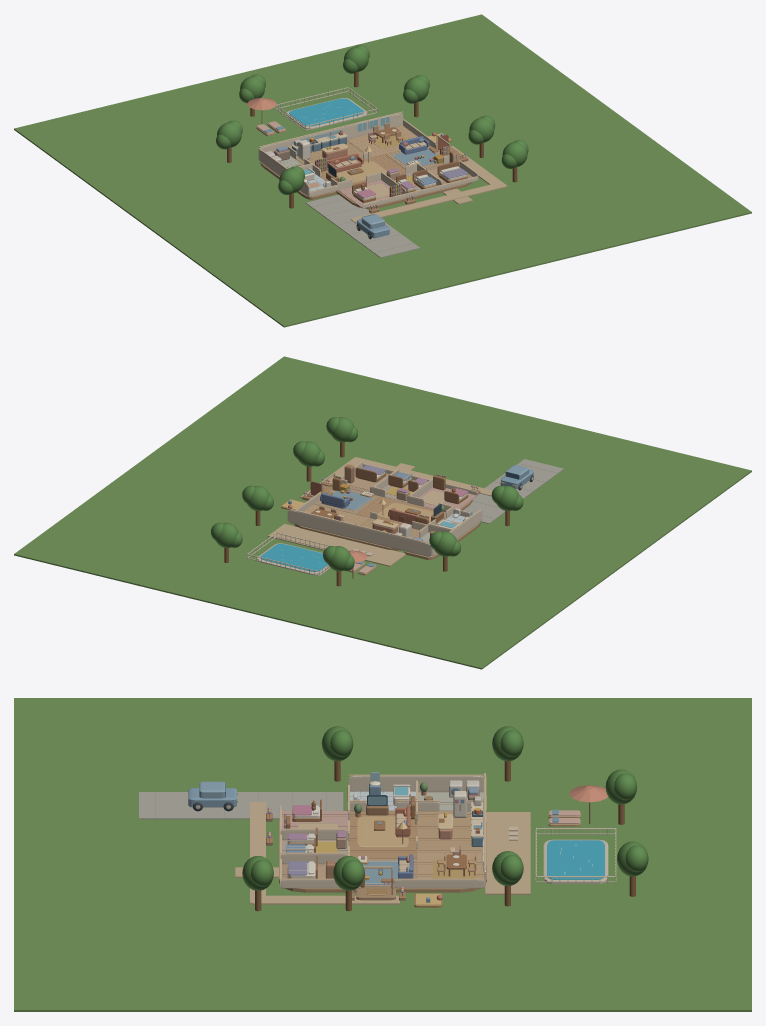
File: house.glb
3 views of the same model, one above another, from view 1: azimuth 30°, elevation 25°; view 2: azimuth 150°, elevation 25°; view 3: azimuth 270°, elevation 25° (orthographic). The views are drawn at different scales.
Parts seen in each view (by area): view 1: house_mesh; view 2: house_mesh; view 3: house_mesh.
Boxes of the visible parts, x1,y1,x2,y2 form: house_mesh: (14, 14, 751, 327); house_mesh: (14, 356, 751, 669); house_mesh: (14, 698, 751, 1011).
Size of the model in its own units: 65 by 5.45 by 65.
